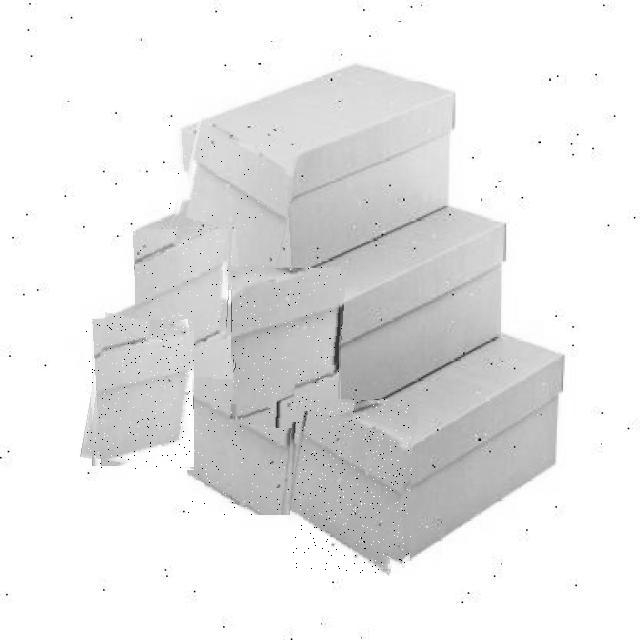BoxFace: (285, 399, 412, 573), (169, 121, 293, 290), (231, 266, 343, 423), (187, 359, 296, 515), (86, 315, 194, 470), (135, 229, 233, 379)
